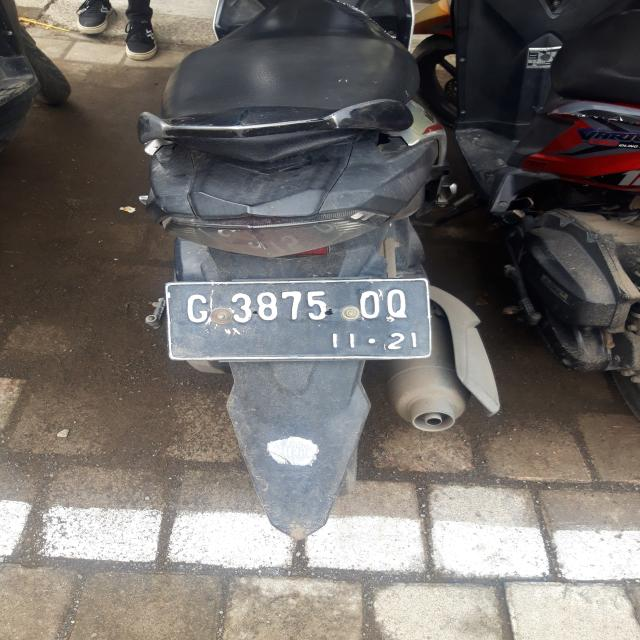plate: (166, 280, 432, 360)
